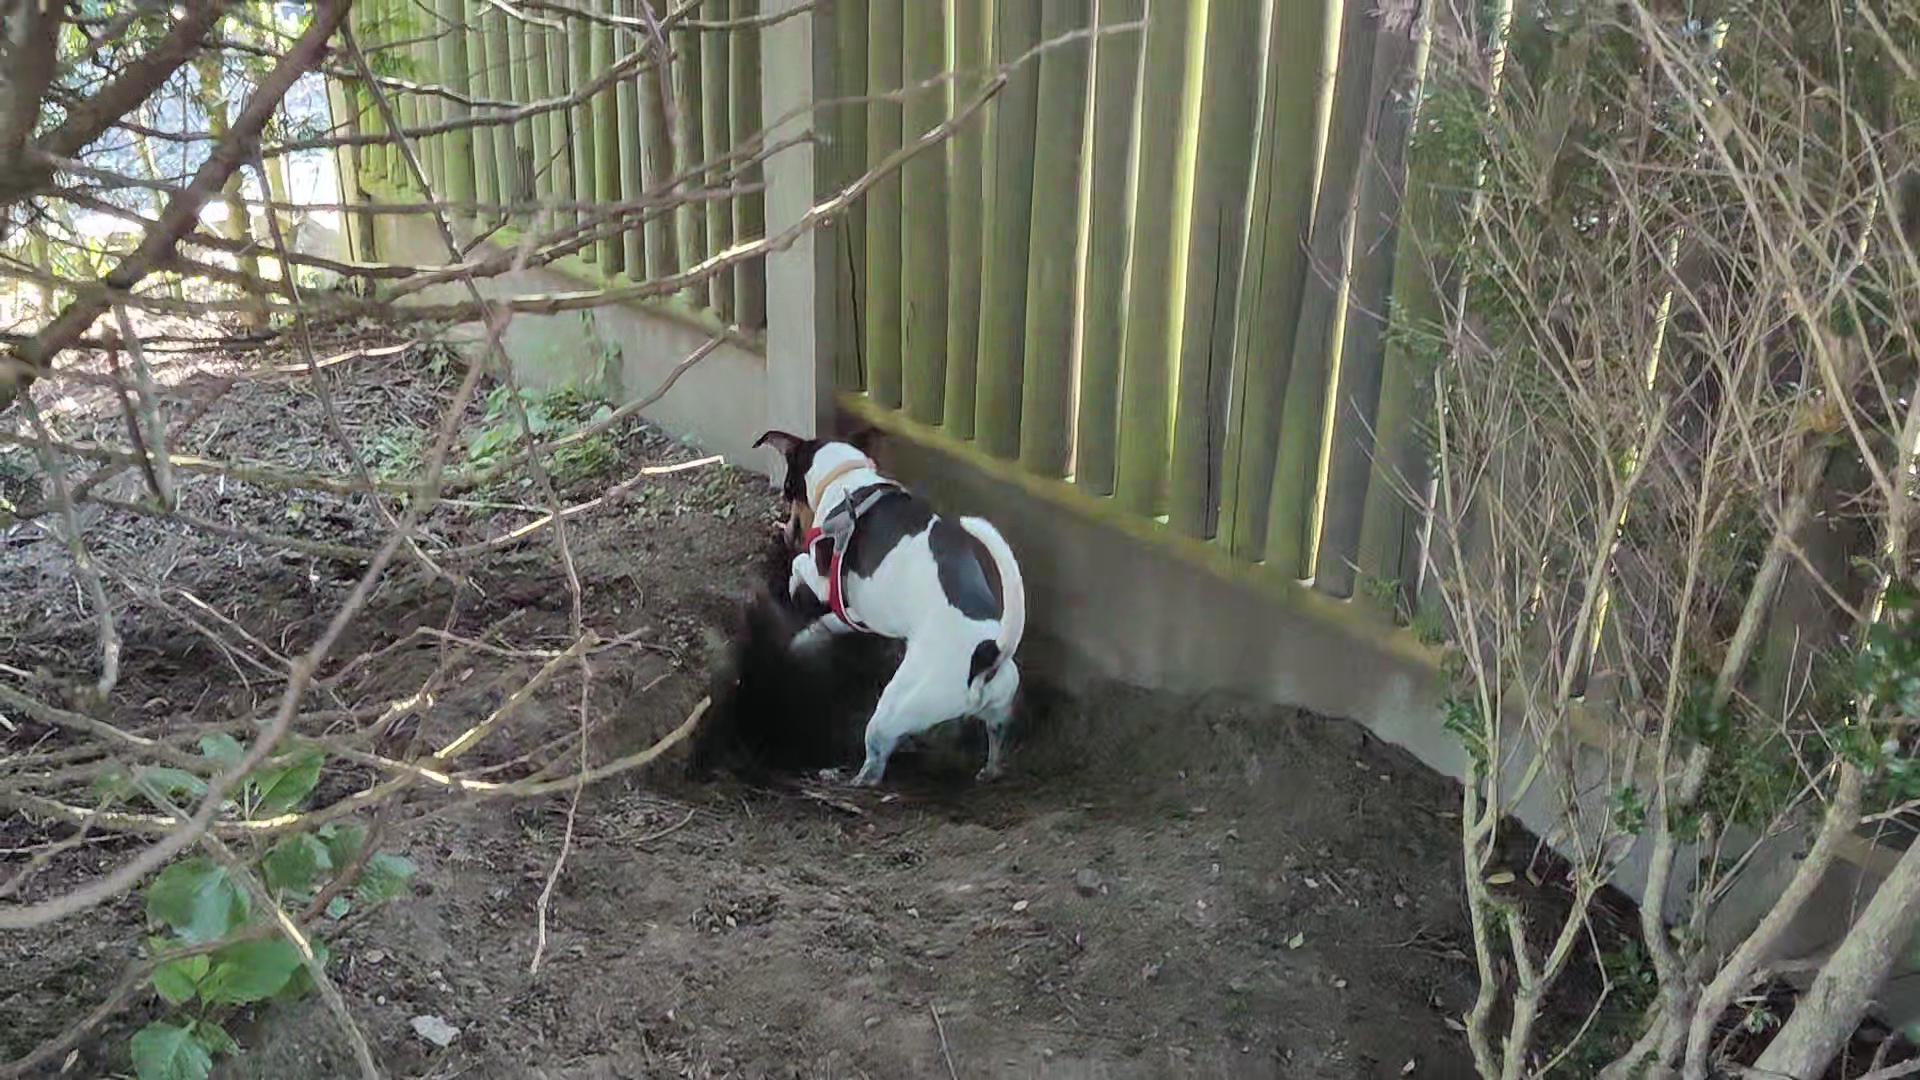Dog: (742, 407, 1042, 808)
